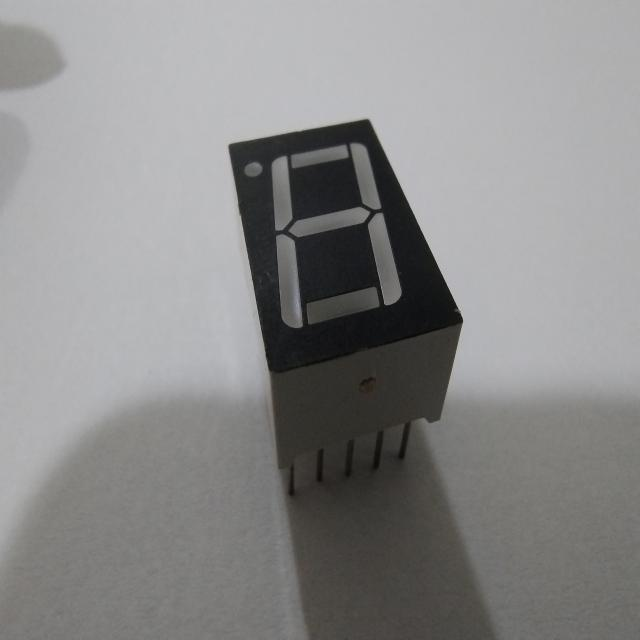7_segments: (215, 111, 470, 516)
